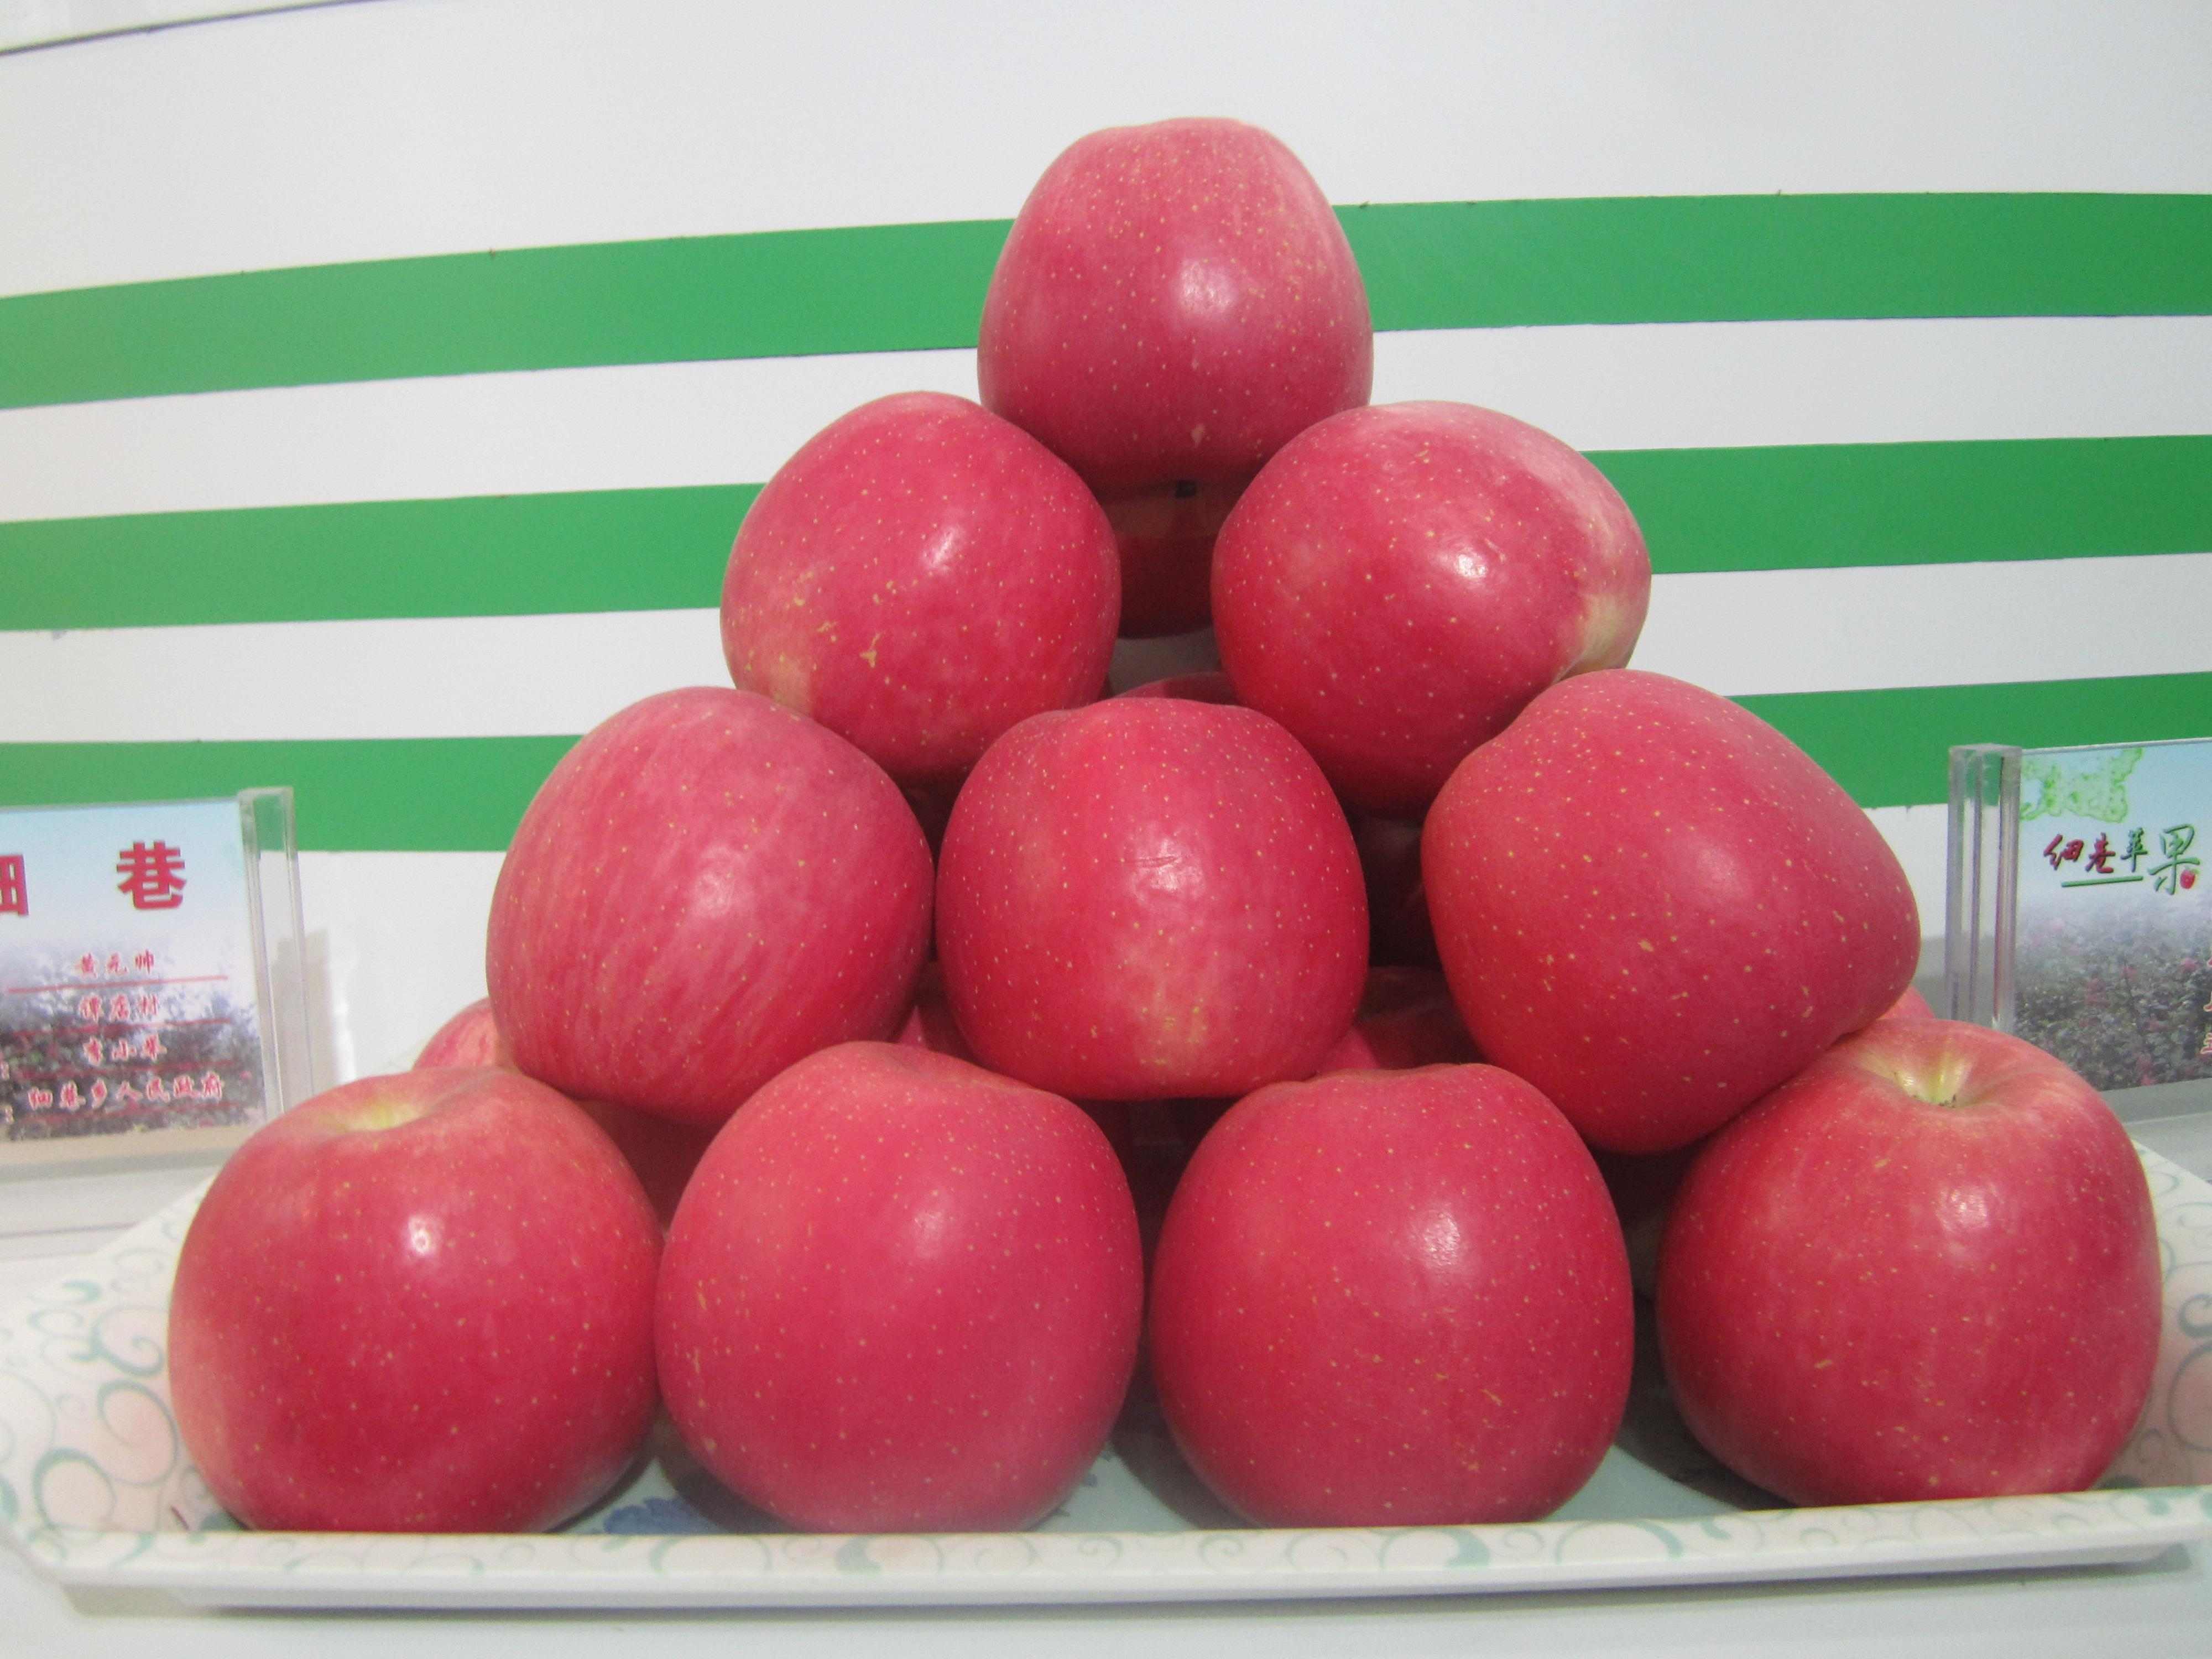apple: (1648, 1007, 2177, 1507), (155, 1046, 669, 1541), (1416, 662, 1916, 1161), (650, 1037, 1146, 1535), (1151, 1066, 1635, 1532), (482, 683, 932, 1105), (930, 683, 1379, 1103), (1205, 397, 1656, 814), (972, 106, 1376, 545), (718, 389, 1123, 793)
